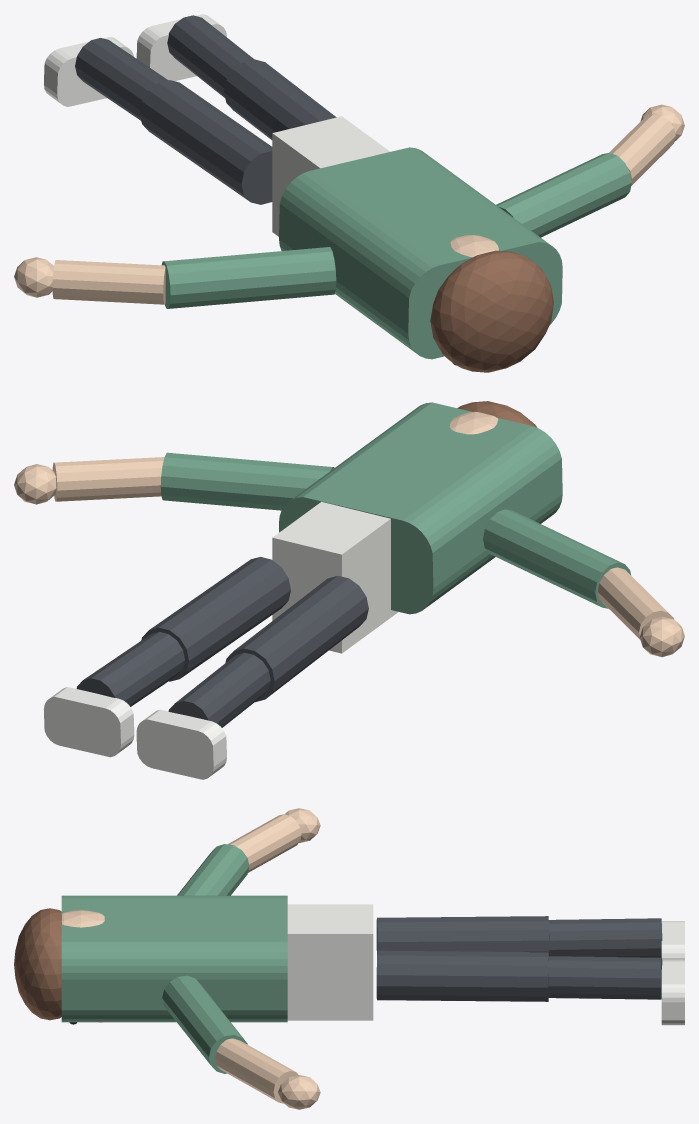
Rendered from CHAR_FEMALE_001.glb.
The picture shows the model from 3 angles, top to bottom: view 1: azimuth 30°, elevation 25°; view 2: azimuth 150°, elevation 25°; view 3: azimuth 270°, elevation 25°; orthographic projection. The views are drawn at different scales.
Visible parts, largest first — view 1: torso_jacket_003, hair_cap_001, thigh_011, upper_arm_005, upper_arm_008, shirt_panel_004, thigh_014, forearm_006, shin_012, shin_015, forearm_009, shoe_013 (+4 smaller); view 2: torso_jacket_003, shirt_panel_004, thigh_014, thigh_011, upper_arm_008, upper_arm_005, shoe_013, shoe_016, shin_015, forearm_009, shin_012, forearm_006 (+4 smaller); view 3: torso_jacket_003, shirt_panel_004, thigh_014, thigh_011, shin_015, hair_cap_001, shin_012, upper_arm_008, forearm_009, upper_arm_005, forearm_006, shoe_016 (+4 smaller).
Part boxes in pixels (bbox=[...]): torso_jacket_003: bbox=[279, 147, 562, 359]; hair_cap_001: bbox=[430, 250, 553, 372]; thigh_011: bbox=[139, 80, 272, 204]; upper_arm_005: bbox=[161, 247, 336, 308]; upper_arm_008: bbox=[496, 152, 631, 237]; shirt_panel_004: bbox=[272, 116, 390, 236]; thigh_014: bbox=[224, 59, 336, 139]; forearm_006: bbox=[52, 260, 165, 304]; shin_012: bbox=[75, 38, 167, 120]; shin_015: bbox=[167, 15, 254, 97]; forearm_009: bbox=[609, 114, 675, 185]; shoe_013: bbox=[44, 37, 133, 106]; torso_jacket_003: bbox=[279, 402, 562, 614]; shirt_panel_004: bbox=[272, 502, 398, 653]; thigh_014: bbox=[141, 557, 290, 681]; thigh_011: bbox=[225, 576, 368, 702]; upper_arm_008: bbox=[160, 452, 334, 510]; upper_arm_005: bbox=[483, 509, 631, 608]; shoe_013: bbox=[136, 709, 226, 779]; shoe_016: bbox=[43, 687, 134, 757]; shin_015: bbox=[76, 632, 184, 706]; forearm_009: bbox=[52, 457, 164, 501]; shin_012: bbox=[168, 652, 270, 727]; forearm_006: bbox=[598, 567, 673, 639]; torso_jacket_003: bbox=[61, 895, 287, 1022]; shirt_panel_004: bbox=[287, 904, 373, 1020]; thigh_014: bbox=[376, 950, 548, 1001]; thigh_011: bbox=[376, 916, 549, 955]; shin_015: bbox=[548, 956, 662, 999]; hair_cap_001: bbox=[14, 908, 61, 1020]; shin_012: bbox=[548, 918, 662, 957]; upper_arm_008: bbox=[162, 975, 247, 1073]; forearm_009: bbox=[215, 1038, 298, 1103]; upper_arm_005: bbox=[177, 844, 249, 895]; forearm_006: bbox=[228, 814, 301, 872]; shoe_016: bbox=[661, 960, 684, 1025].
Bounding box in the file's own units: 1.72 × 0.2918 × 1.72.
